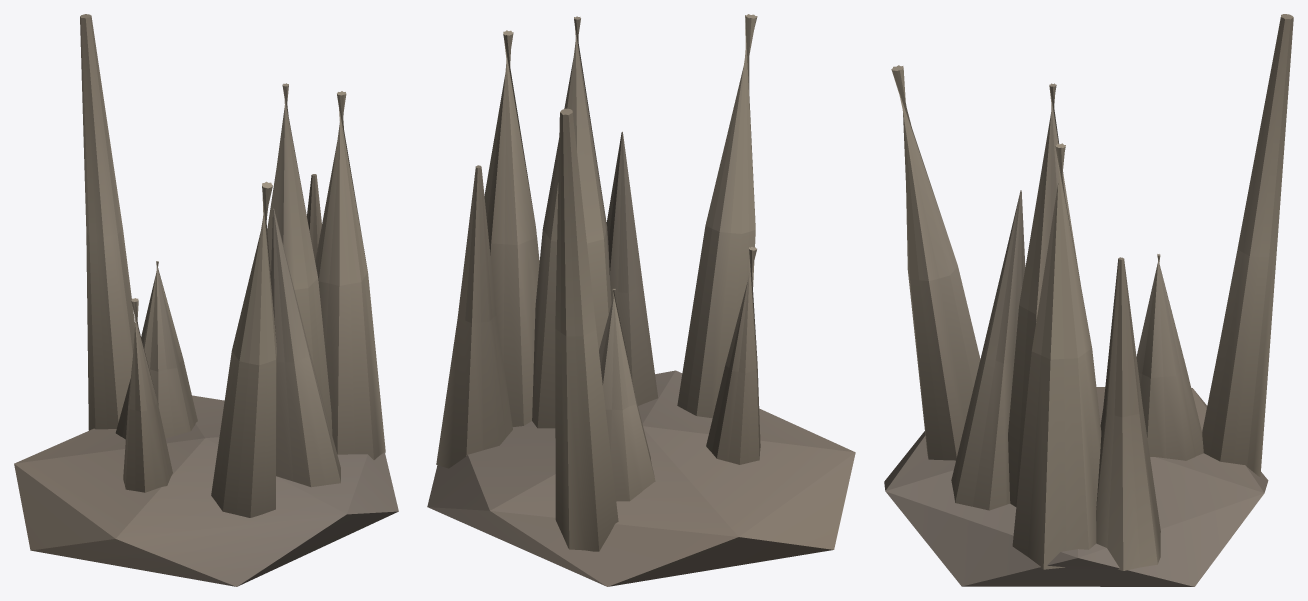
File: stalagmite_cluster_b.db445685.glb
3 views of the same model, side by side, from view 1: azimuth 30°, elevation 25°; view 2: azimuth 150°, elevation 25°; view 3: azimuth 270°, elevation 25° (orthographic). The views are drawn at different scales.
Parts seen in each view (by area): view 1: stalagmite_cluster_b; view 2: stalagmite_cluster_b; view 3: stalagmite_cluster_b.
Boxes of the visible parts, x1=… form: stalagmite_cluster_b: x1=14, y1=14, x2=398, y2=586; stalagmite_cluster_b: x1=427, y1=14, x2=855, y2=586; stalagmite_cluster_b: x1=884, y1=14, x2=1293, y2=586.
Bounding box in the file's own units: 1.06 × 1.33 × 0.9652.
